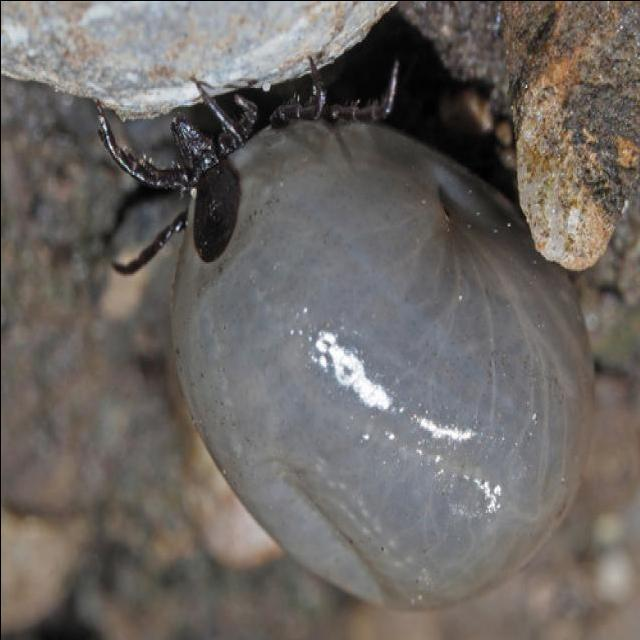Ixodes Ricinus-F-Fed: (95, 34, 593, 609)
